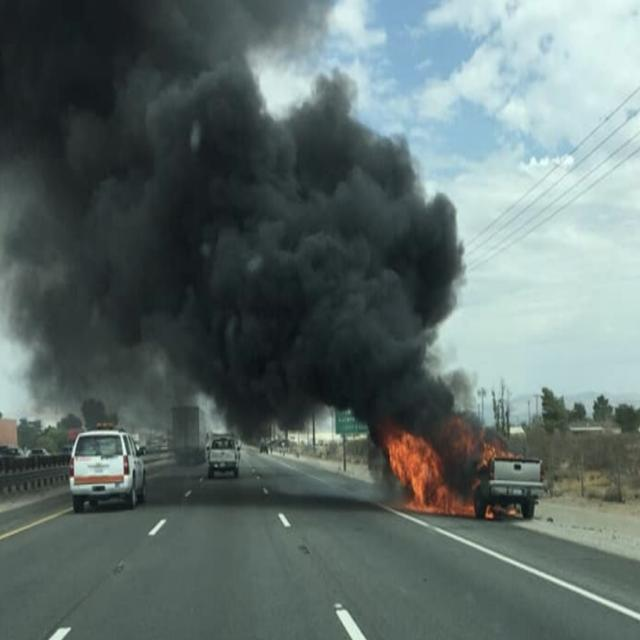Fire: (384, 431, 518, 516)
Smoke: (0, 0, 482, 449)
